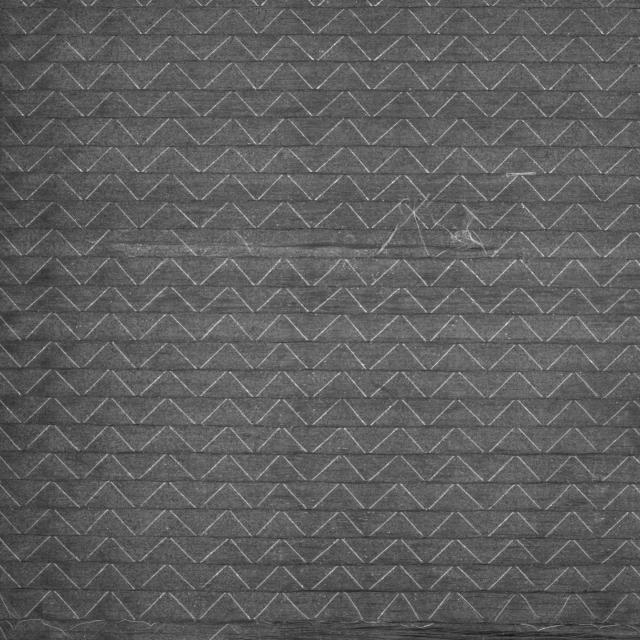carbon-fibre-defect: (107, 228, 498, 259)
